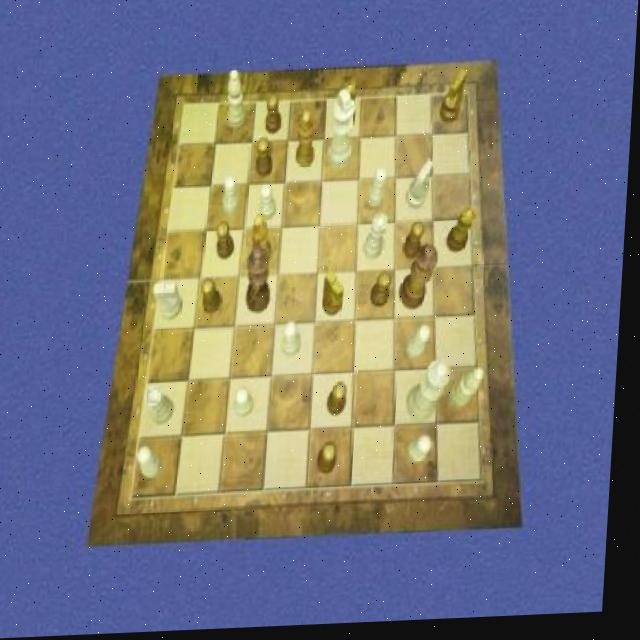bishop: (254, 218, 278, 271), (298, 113, 320, 170)
black-bishop: (250, 243, 277, 315)
black-king: (443, 72, 470, 127), (326, 273, 349, 320)
black-knight: (406, 224, 428, 264), (218, 222, 239, 261), (203, 281, 226, 316), (374, 275, 397, 310), (257, 141, 276, 182), (267, 97, 285, 138), (332, 386, 353, 420), (324, 445, 344, 479)
black-pawn: (403, 247, 443, 314)
black-queen: (451, 211, 480, 257), (338, 84, 359, 134)
black-rook: (454, 373, 490, 414), (227, 71, 250, 132)
white-bishop: (328, 92, 356, 174)
white-king: (408, 163, 436, 215), (156, 284, 186, 323)
white-knight: (144, 447, 170, 482), (410, 328, 435, 363), (370, 172, 389, 211), (286, 324, 306, 361), (261, 185, 281, 222), (413, 439, 438, 468), (225, 177, 243, 217), (238, 389, 260, 420)
white-pawn: (412, 364, 457, 427)
white-queen: (149, 387, 181, 426), (367, 217, 392, 263)
